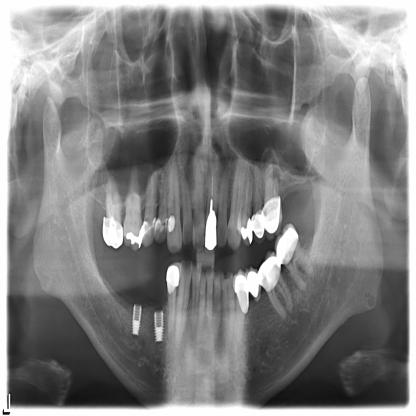Bicon: (128, 296, 144, 342), (152, 307, 168, 343)
